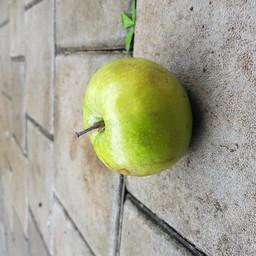Bad_apple: (84, 53, 194, 177)
